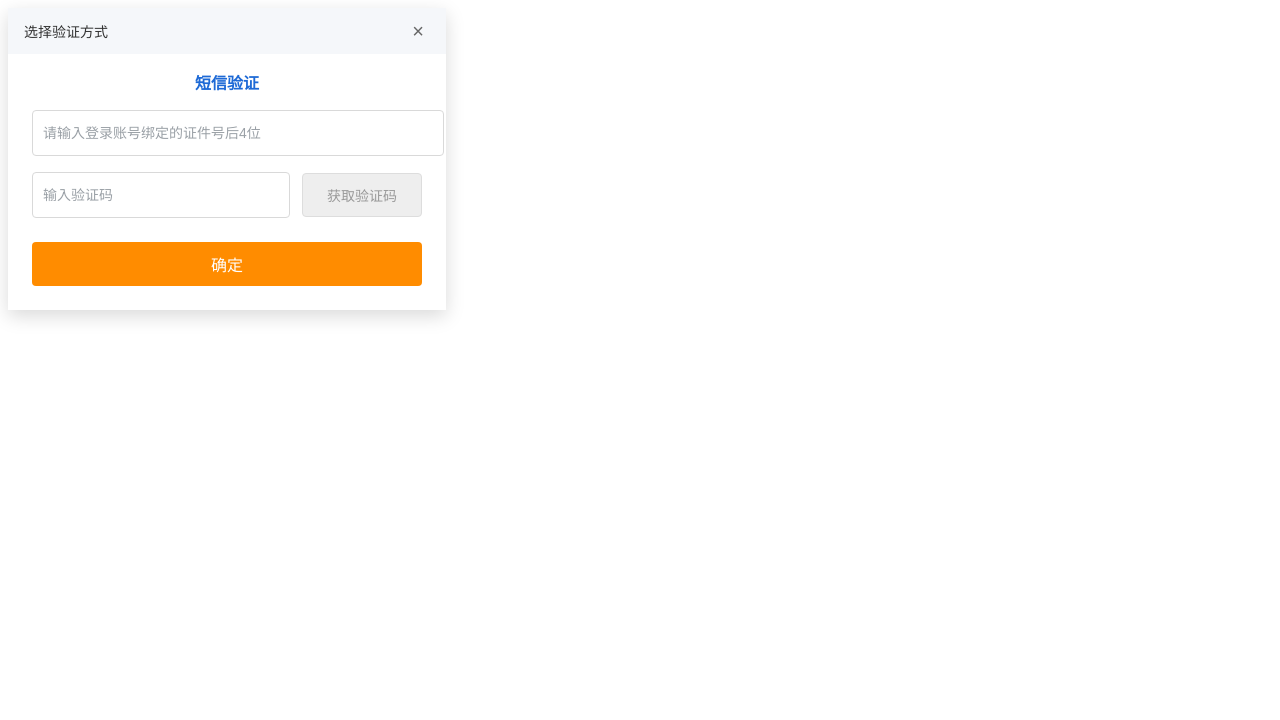
Test case: Given idLast4 not filled When clicking confirm Then shows error 请输入登录账号绑定的证件号后4位
Click the button "确定": coordinates (227, 264) [32,242,422,286]
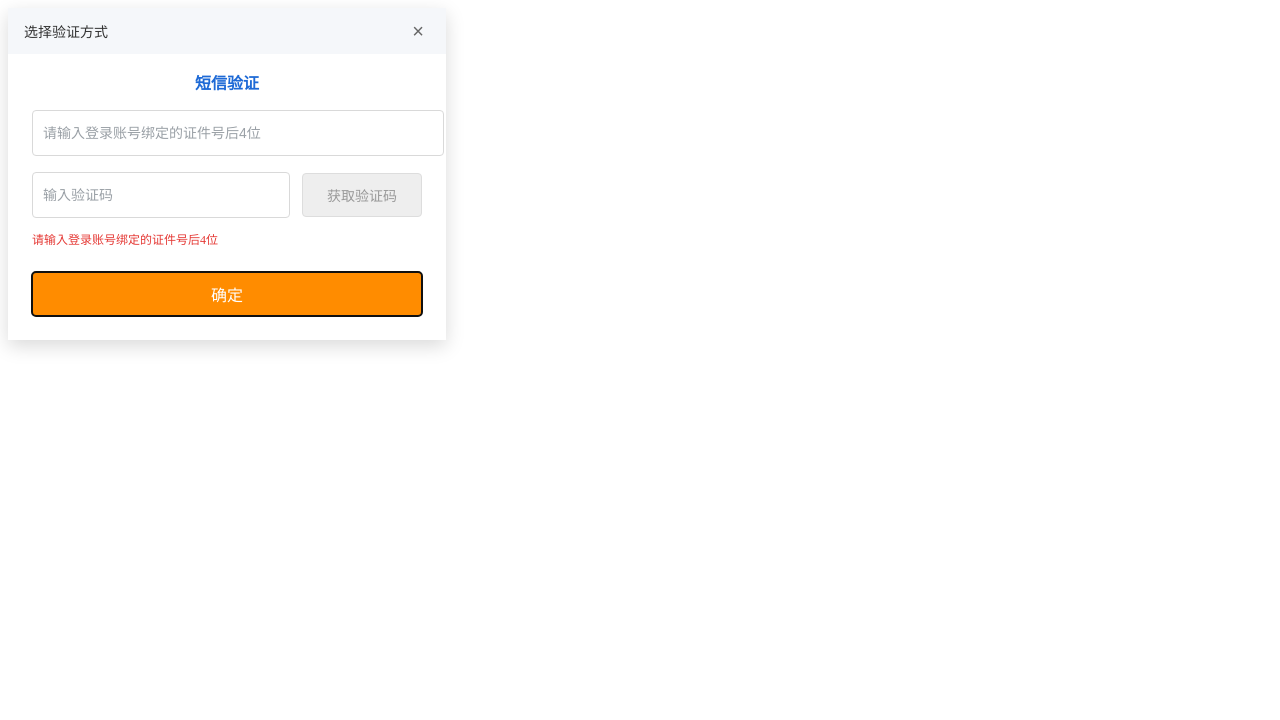
Result: the text "请输入登录账号绑定的证件号后4位" is shown at [32,233,218,247]
